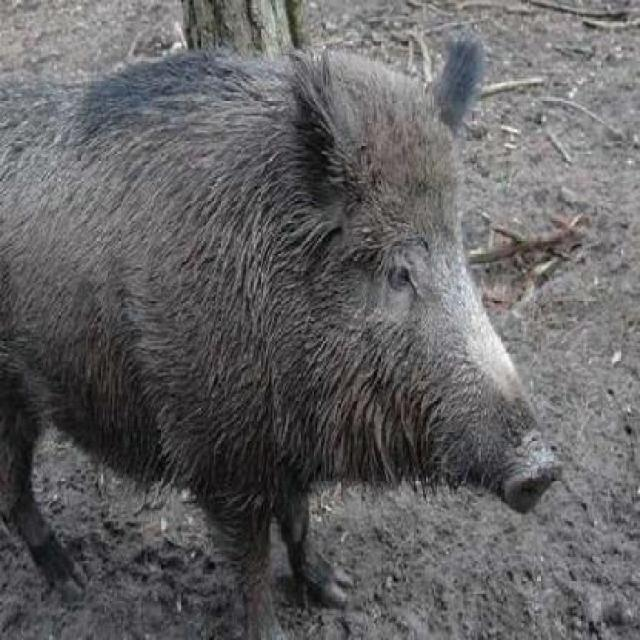Boar: (22, 64, 566, 594)
